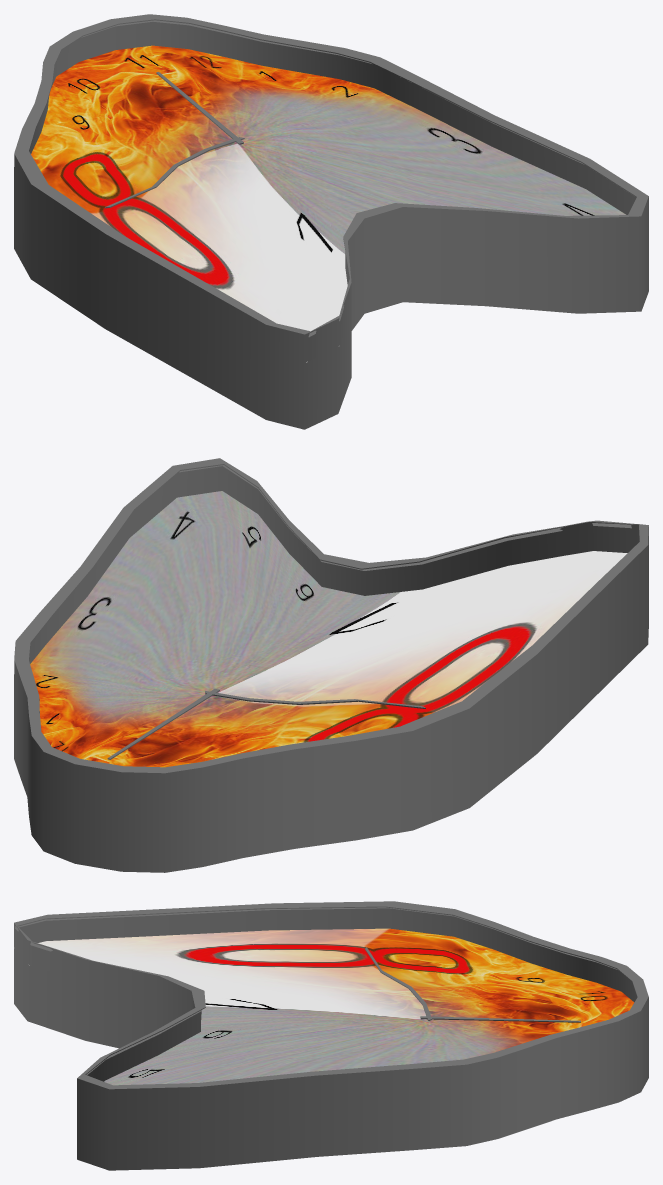
The model's file is Clock.obj.
The picture shows the model from 3 angles, top to bottom: view 1: azimuth 30°, elevation 25°; view 2: azimuth 150°, elevation 25°; view 3: azimuth 270°, elevation 25°; orthographic projection. The views are drawn at different scales.
Parts seen in each view (by area): view 1: Clock_Metal, Clock_Backplate, Clock_Wijzers; view 2: Clock_Metal, Clock_Backplate, Clock_Wijzers; view 3: Clock_Metal, Clock_Backplate, Clock_Wijzers.
Boxes of the visible parts, <box> form: Clock_Metal: <box>14,14,648,429</box>; Clock_Backplate: <box>31,45,625,362</box>; Clock_Wijzers: <box>105,72,244,208</box>; Clock_Metal: <box>14,458,648,872</box>; Clock_Backplate: <box>30,491,627,767</box>; Clock_Wijzers: <box>107,688,425,759</box>; Clock_Metal: <box>14,901,648,1170</box>; Clock_Backplate: <box>29,928,634,1085</box>; Clock_Wijzers: <box>365,947,580,1022</box>.
Bounding box in the file's own units: 0.373 × 0.0752 × 0.5321.
